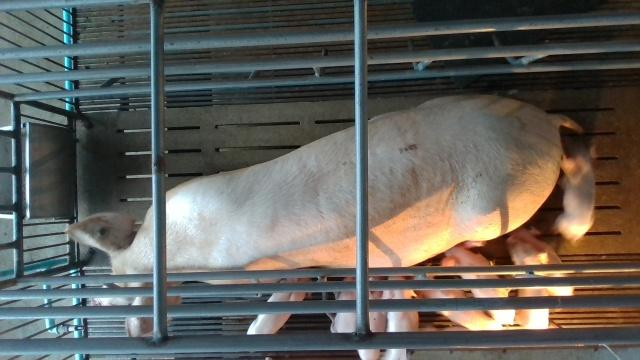piglet: (441, 242, 516, 324), (412, 274, 503, 331), (553, 133, 598, 245), (505, 227, 572, 295), (248, 277, 310, 335), (380, 276, 420, 360), (330, 277, 358, 333)
sow-sit: (64, 92, 584, 337)
